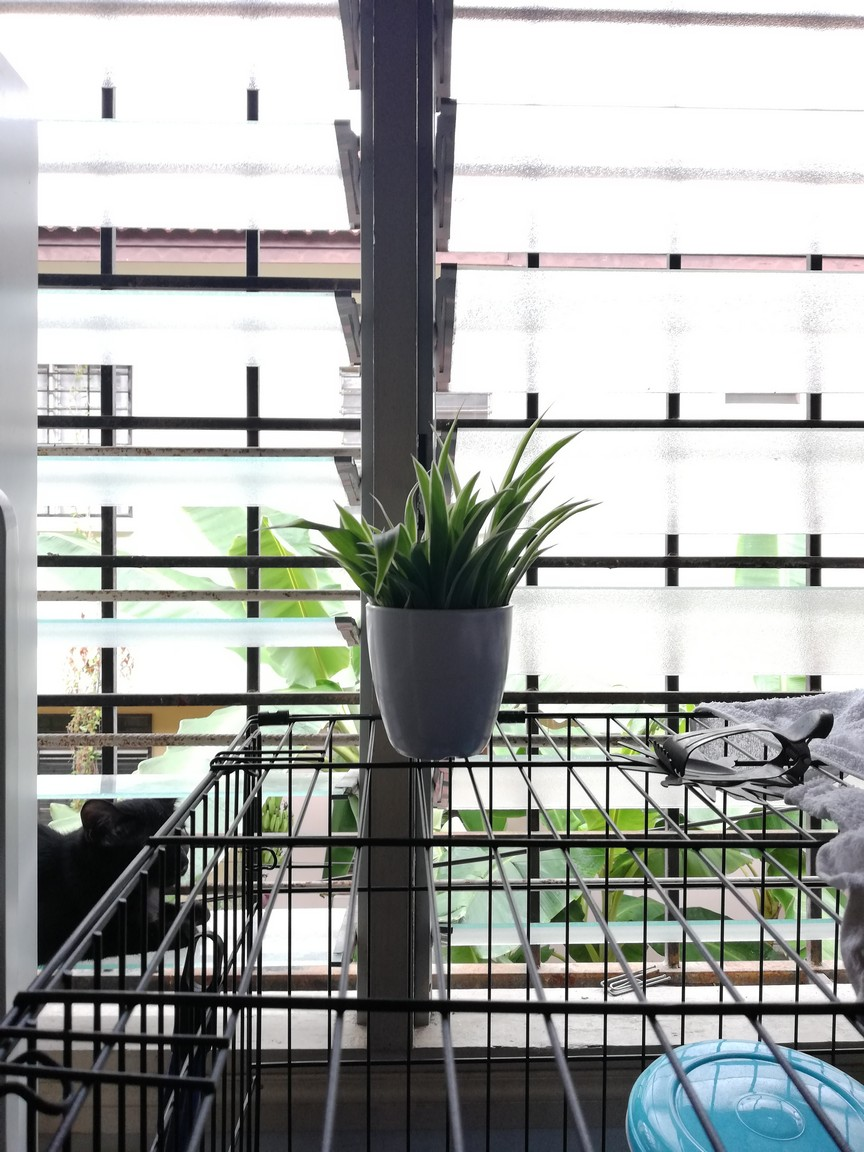daun: (248, 517, 339, 541), (370, 533, 398, 600), (512, 400, 557, 440), (535, 428, 586, 462), (440, 397, 466, 457), (410, 451, 429, 517), (430, 457, 446, 518), (331, 498, 359, 530), (306, 542, 343, 566), (528, 474, 557, 502), (369, 493, 393, 526), (427, 420, 447, 457), (531, 543, 560, 564), (527, 459, 557, 478), (486, 488, 513, 507), (356, 552, 380, 568), (460, 469, 481, 487), (492, 524, 541, 531), (467, 486, 483, 507), (306, 546, 328, 560), (556, 496, 575, 510), (583, 499, 603, 512), (356, 540, 378, 551), (488, 474, 498, 496)
